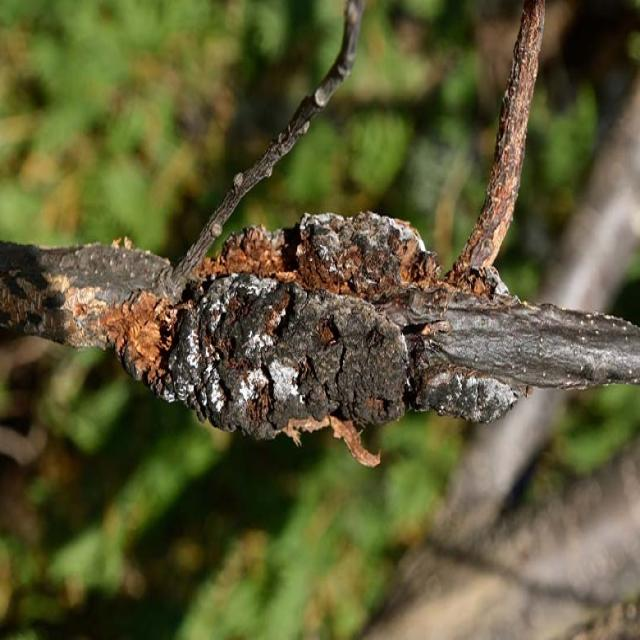Black_knot: (165, 268, 411, 441)
